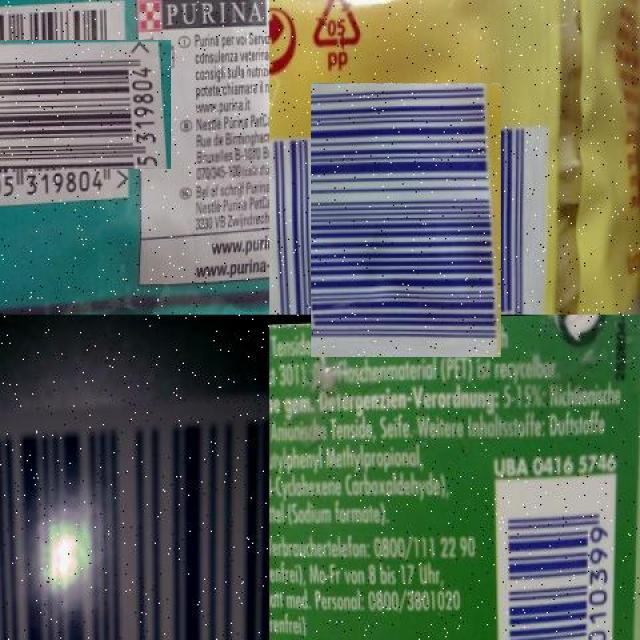Barcode: (0, 391, 270, 640), (290, 103, 522, 336), (0, 20, 151, 190), (495, 475, 621, 640)
